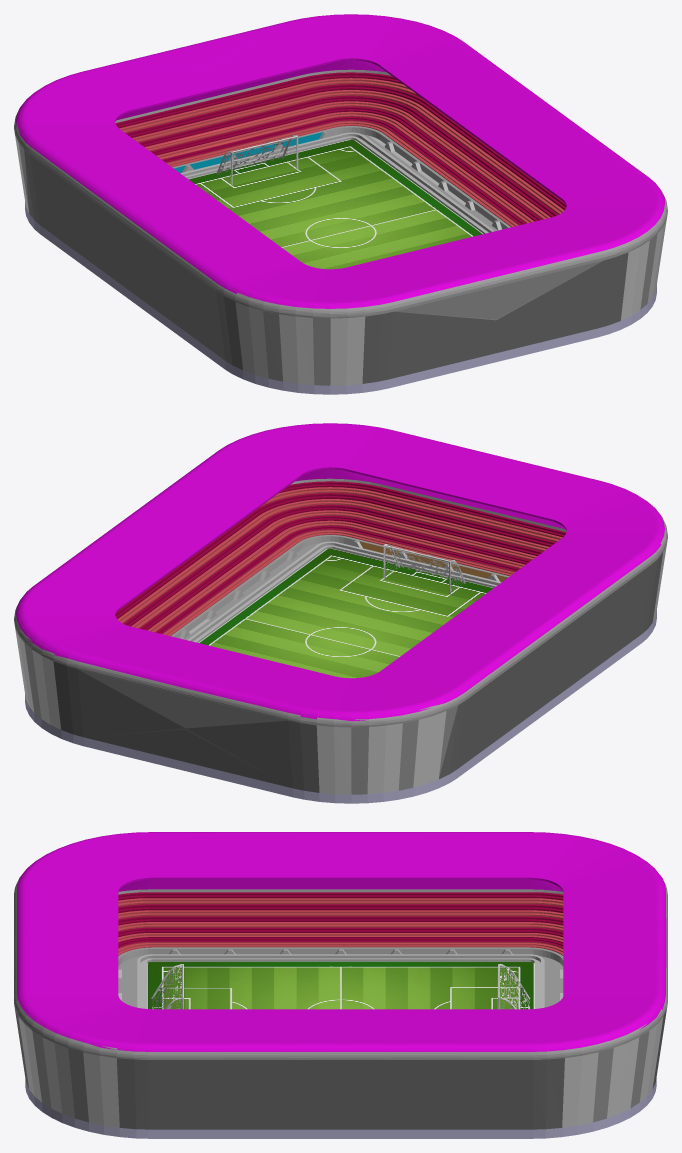
Rendered from stadium.glb.
3 renders of one model, top to bottom at view 1: azimuth 30°, elevation 25°; view 2: azimuth 150°, elevation 25°; view 3: azimuth 270°, elevation 25°, orthographic. The views are drawn at different scales.
Bounding box in the file's own units: 0.1501 × 0.0304 × 0.1887.
Materials: 2 (1 with a texture image).
